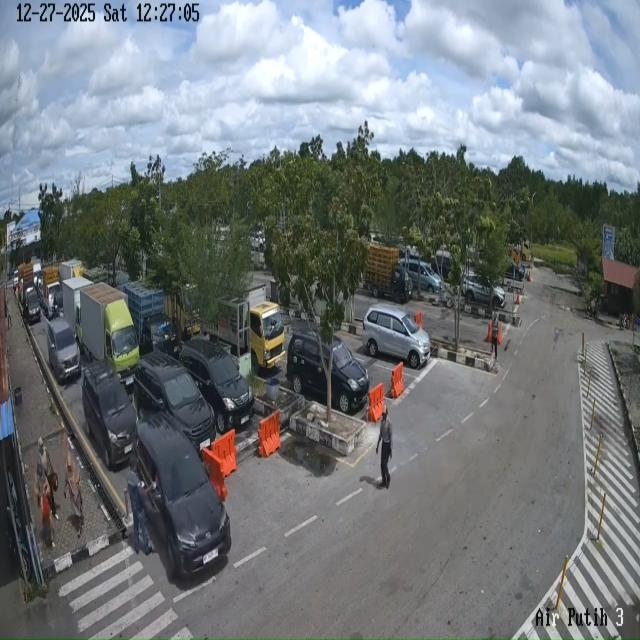Golongan IVA: (134, 413, 231, 577), (133, 351, 215, 451), (286, 328, 370, 413), (180, 339, 254, 434), (82, 360, 137, 470), (362, 304, 430, 369), (47, 317, 81, 383), (138, 312, 178, 358), (462, 271, 506, 308), (400, 257, 442, 294), (23, 287, 41, 325), (431, 252, 451, 281), (505, 259, 526, 281)
Golongan VB: (206, 285, 286, 372), (77, 283, 139, 390), (122, 282, 178, 358), (364, 243, 413, 303), (164, 285, 201, 341), (62, 276, 93, 335), (39, 265, 61, 319), (58, 258, 85, 284)
